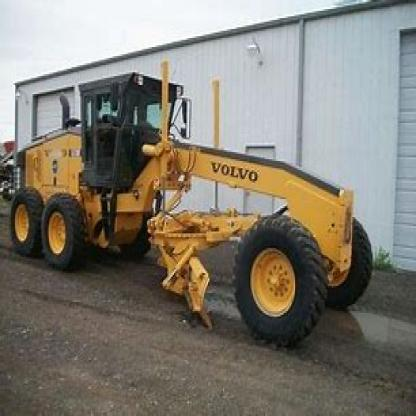bull_dozer/loader/grader: (10, 65, 388, 358)
